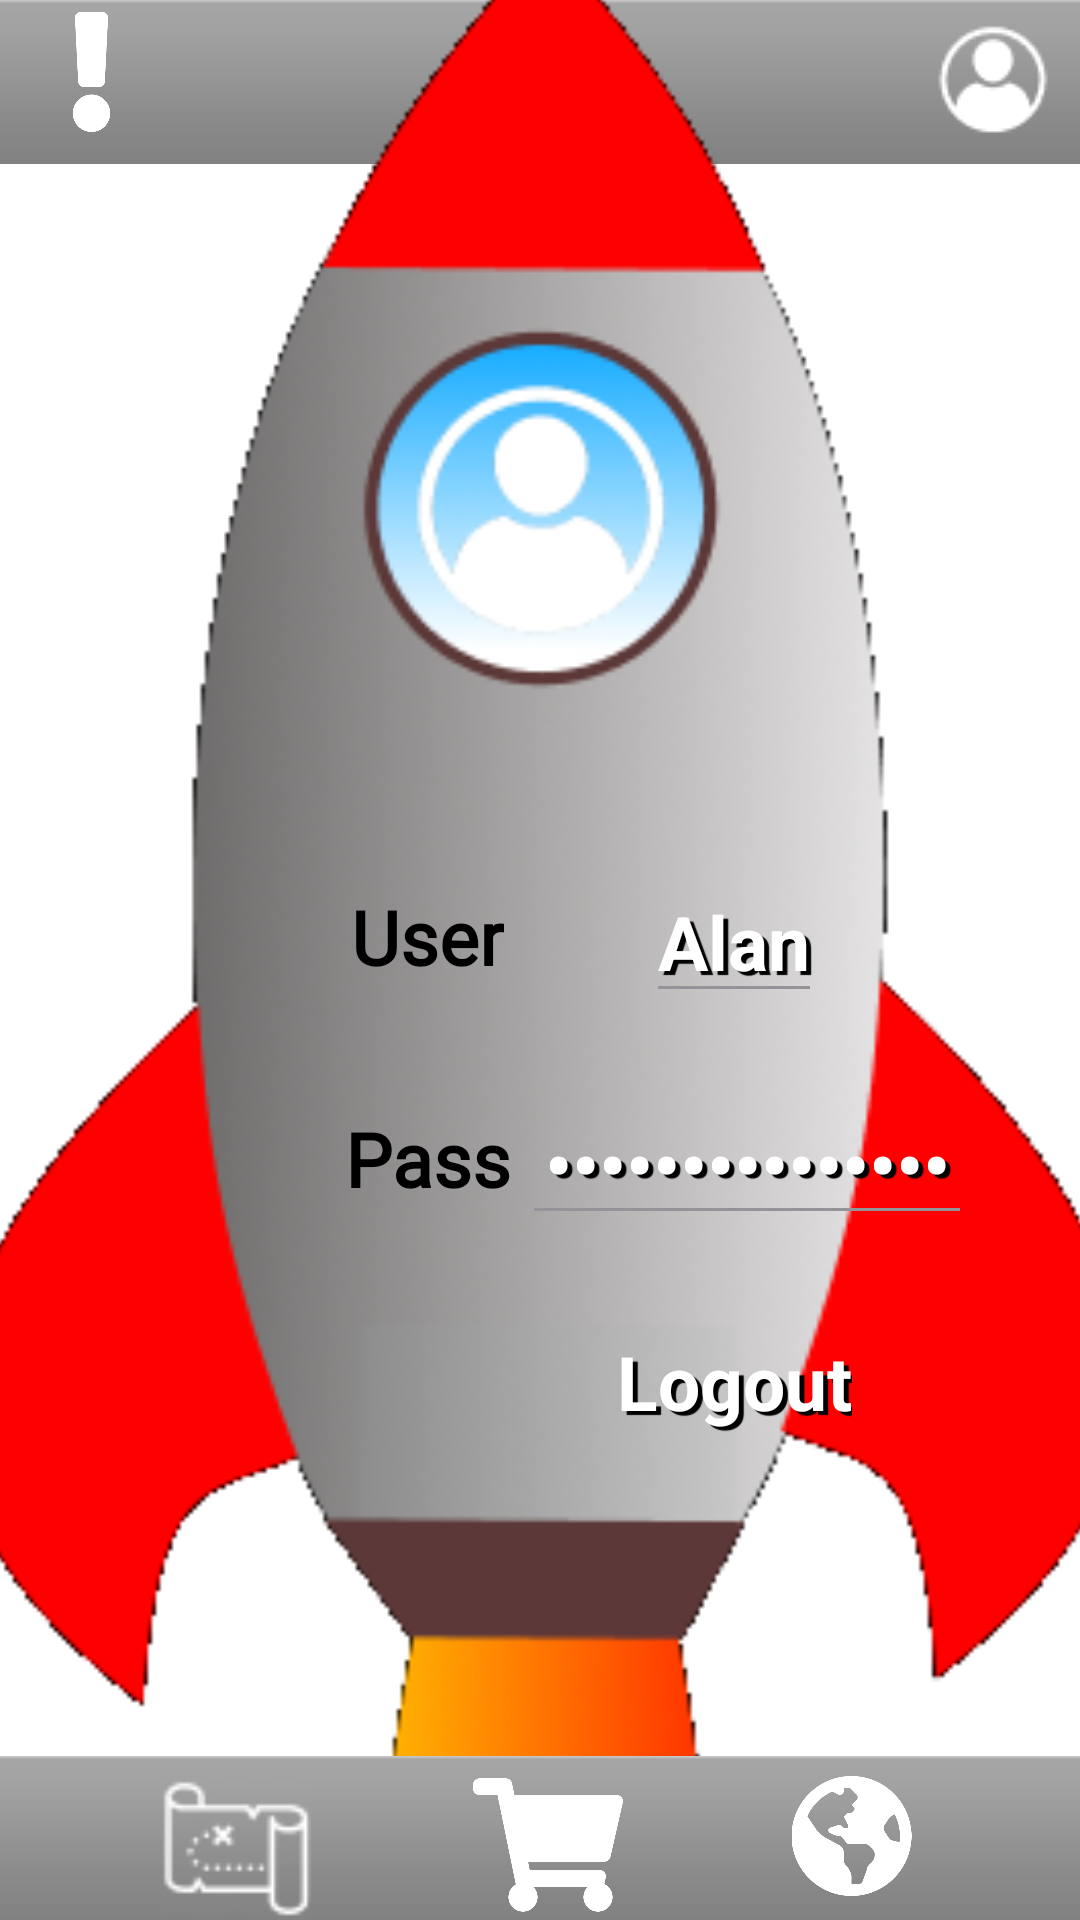

Named icons in this screenshot (1080x1920) and their bounding boxes, (x1, y1, x2, y2):
earthicon: (784, 1776, 919, 1896)
excla: (24, 12, 159, 132)
mapawhite: (161, 1781, 311, 1920)
profile: (940, 26, 1046, 132)
shoping: (473, 1778, 623, 1920)
